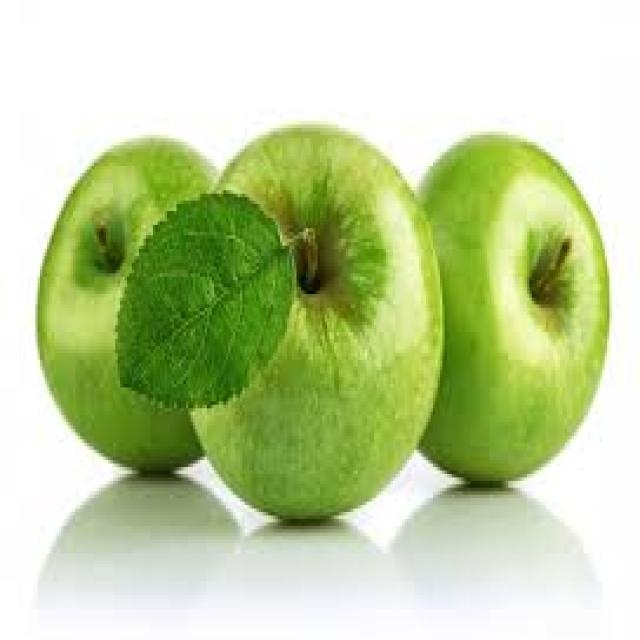agrume: (178, 65, 450, 535), (15, 83, 303, 511), (397, 91, 625, 517)
